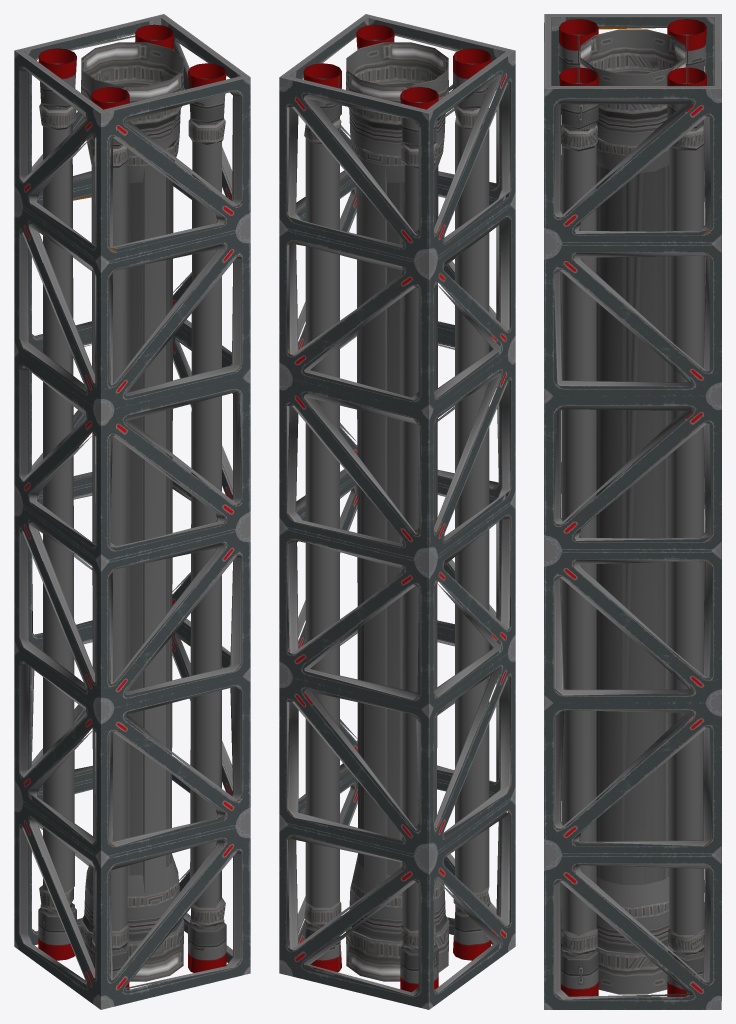
The model's file is truba.glb.
3 views of the same model, side by side, from view 1: azimuth 30°, elevation 25°; view 2: azimuth 150°, elevation 25°; view 3: azimuth 270°, elevation 25° (orthographic). The views are drawn at different scales.
Parts seen in each view (by area): view 1: Column_Pipes; view 2: Column_Pipes; view 3: Column_Pipes.
Boxes of the visible parts, left/top/right/bottom form: Column_Pipes: left=14, top=14, right=250, bottom=1009; Column_Pipes: left=279, top=14, right=515, bottom=1009; Column_Pipes: left=544, top=14, right=721, bottom=1009.
Size of the model in its own units: 0.8747 by 5 by 0.8747.
Materials: 3 (3 with a texture image).
